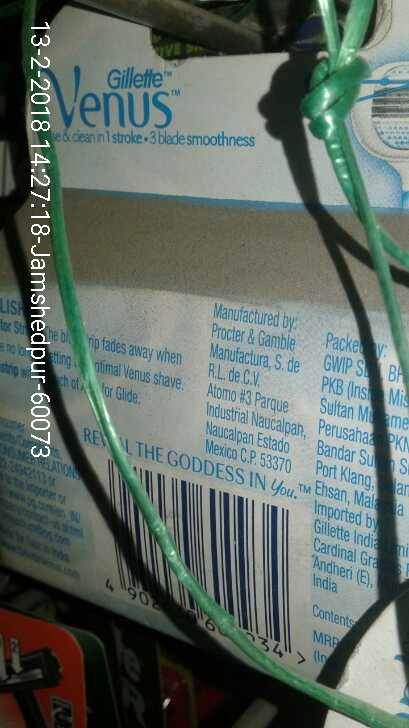reject: (127, 318, 265, 460)
